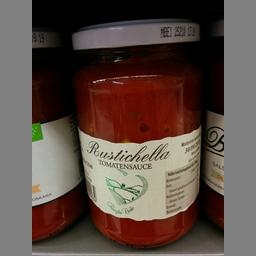tomato_sauce: (68, 16, 204, 250)
